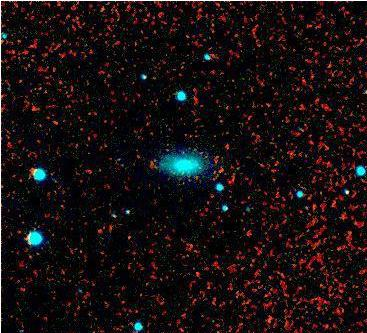star: (251, 273, 281, 303)
